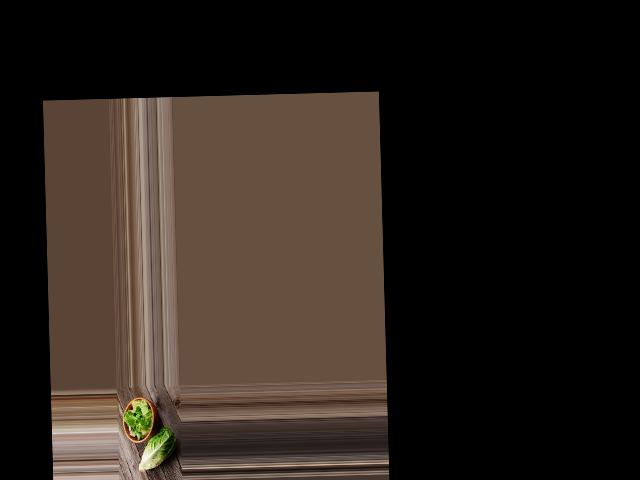lettuce: (137, 427, 178, 470)
